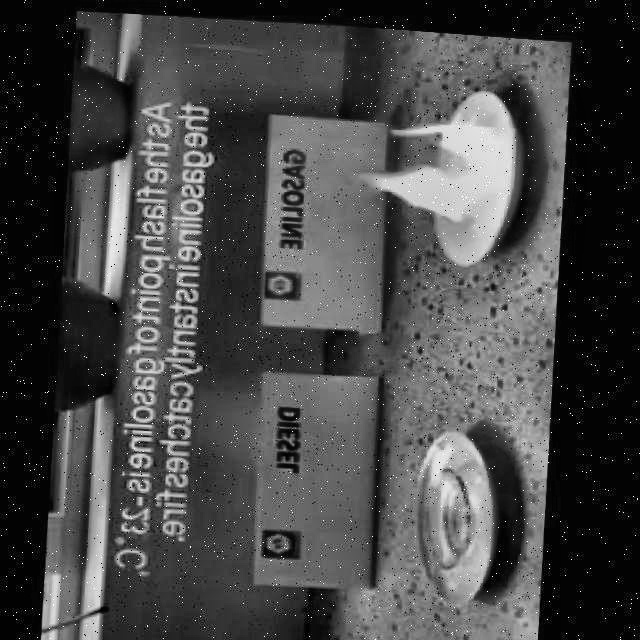Fire: (354, 89, 521, 234)
